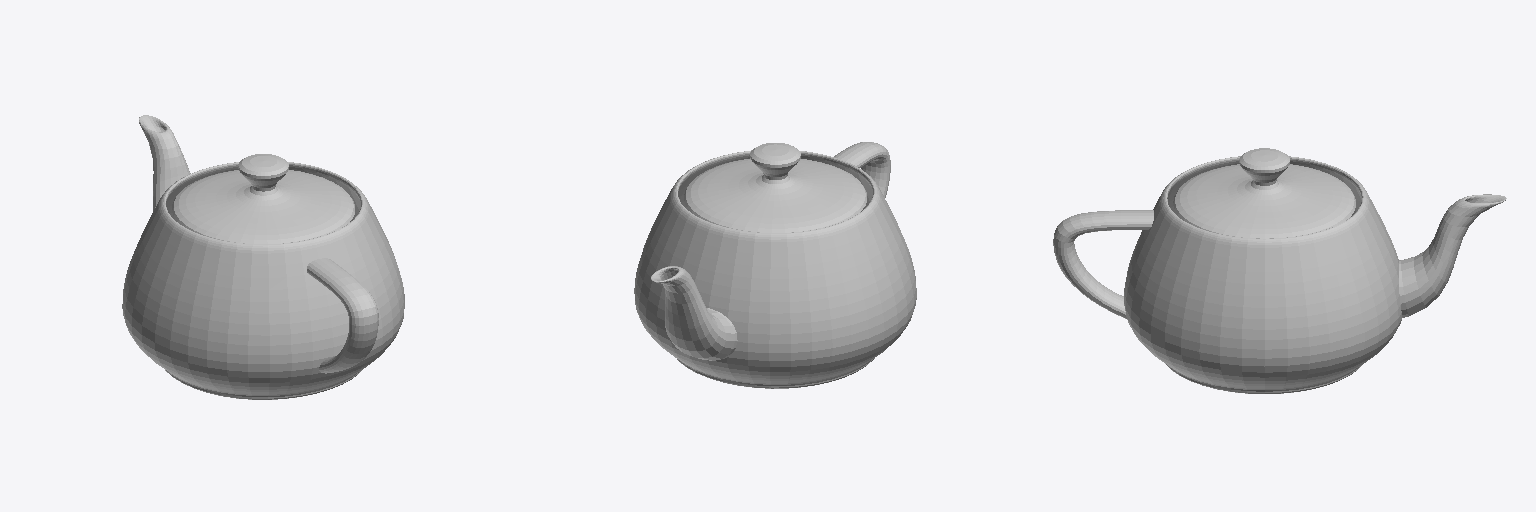
File: teapot.obj
3 views of the same model, side by side, from view 1: azimuth 30°, elevation 25°; view 2: azimuth 150°, elevation 25°; view 3: azimuth 270°, elevation 25° (orthographic).
Visible parts, largest first — view 1: Mesh1 Teapot Model, Mesh2 Teapot Model, Mesh3 Teapot Model, Mesh4 Teapot Model; view 2: Mesh1 Teapot Model, Mesh2 Teapot Model, Mesh4 Teapot Model, Mesh3 Teapot Model; view 3: Mesh1 Teapot Model, Mesh2 Teapot Model, Mesh4 Teapot Model, Mesh3 Teapot Model.
Boxes of the visible parts, x1=… form: Mesh1 Teapot Model: x1=122, y1=162, x2=404, y2=399; Mesh2 Teapot Model: x1=172, y1=154, x2=354, y2=243; Mesh3 Teapot Model: x1=307, y1=258, x2=378, y2=373; Mesh4 Teapot Model: x1=139, y1=115, x2=190, y2=210; Mesh1 Teapot Model: x1=634, y1=150, x2=916, y2=388; Mesh2 Teapot Model: x1=684, y1=143, x2=866, y2=232; Mesh4 Teapot Model: x1=651, y1=266, x2=737, y2=360; Mesh3 Teapot Model: x1=834, y1=142, x2=890, y2=197; Mesh1 Teapot Model: x1=1124, y1=156, x2=1402, y2=393; Mesh2 Teapot Model: x1=1173, y1=148, x2=1355, y2=238; Mesh4 Teapot Model: x1=1399, y1=194, x2=1506, y2=317; Mesh3 Teapot Model: x1=1053, y1=210, x2=1153, y2=318.
Bounding box in the file's own units: 4 × 3.15 × 6.43.